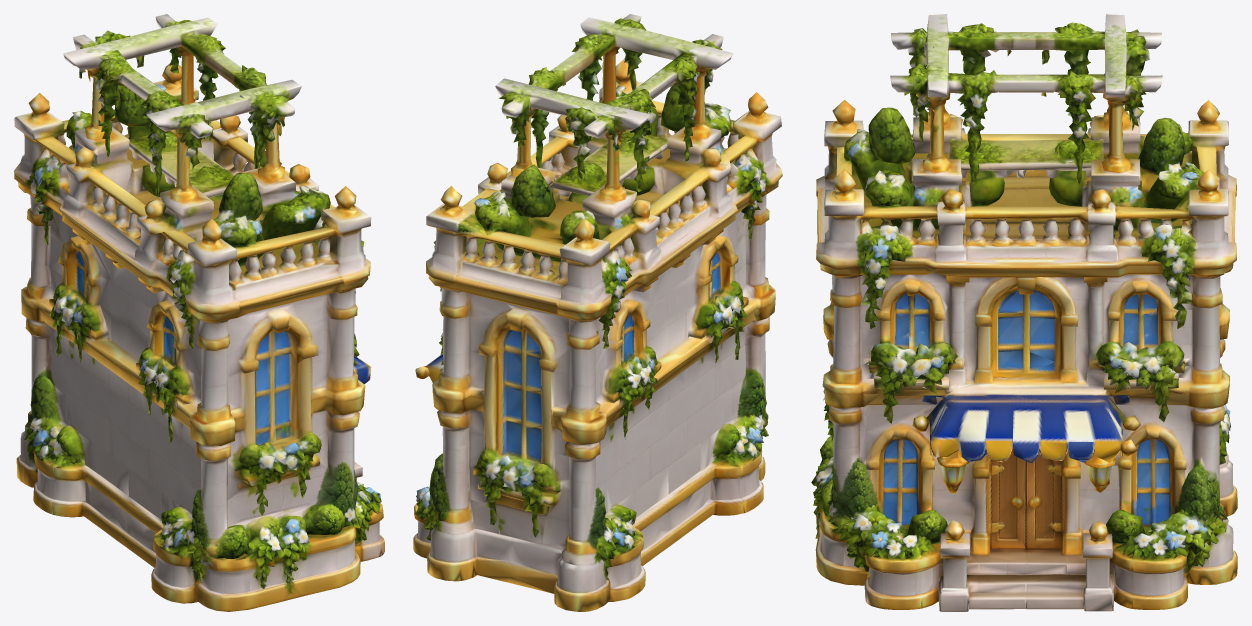
The model's file is HaloDomeHouse_12_HD_src.glb.
3 renders of one model, left to right at view 1: azimuth 30°, elevation 25°; view 2: azimuth 150°, elevation 25°; view 3: azimuth 270°, elevation 25°, orthographic. The views are drawn at different scales.
Parts seen in each view (by area): view 1: tripo_node_3b12ca0e-4553-4f6b-ba4f-fcfdc9a637e8; view 2: tripo_node_3b12ca0e-4553-4f6b-ba4f-fcfdc9a637e8; view 3: tripo_node_3b12ca0e-4553-4f6b-ba4f-fcfdc9a637e8.
Part boxes in pixels (x1,y1,x2,y2): tripo_node_3b12ca0e-4553-4f6b-ba4f-fcfdc9a637e8: (14, 14, 384, 611); tripo_node_3b12ca0e-4553-4f6b-ba4f-fcfdc9a637e8: (413, 14, 782, 611); tripo_node_3b12ca0e-4553-4f6b-ba4f-fcfdc9a637e8: (811, 14, 1237, 611).
Size of the model in its own units: 0.5154 by 0.9821 by 0.7679.
Materials: 1 (1 with a texture image).
